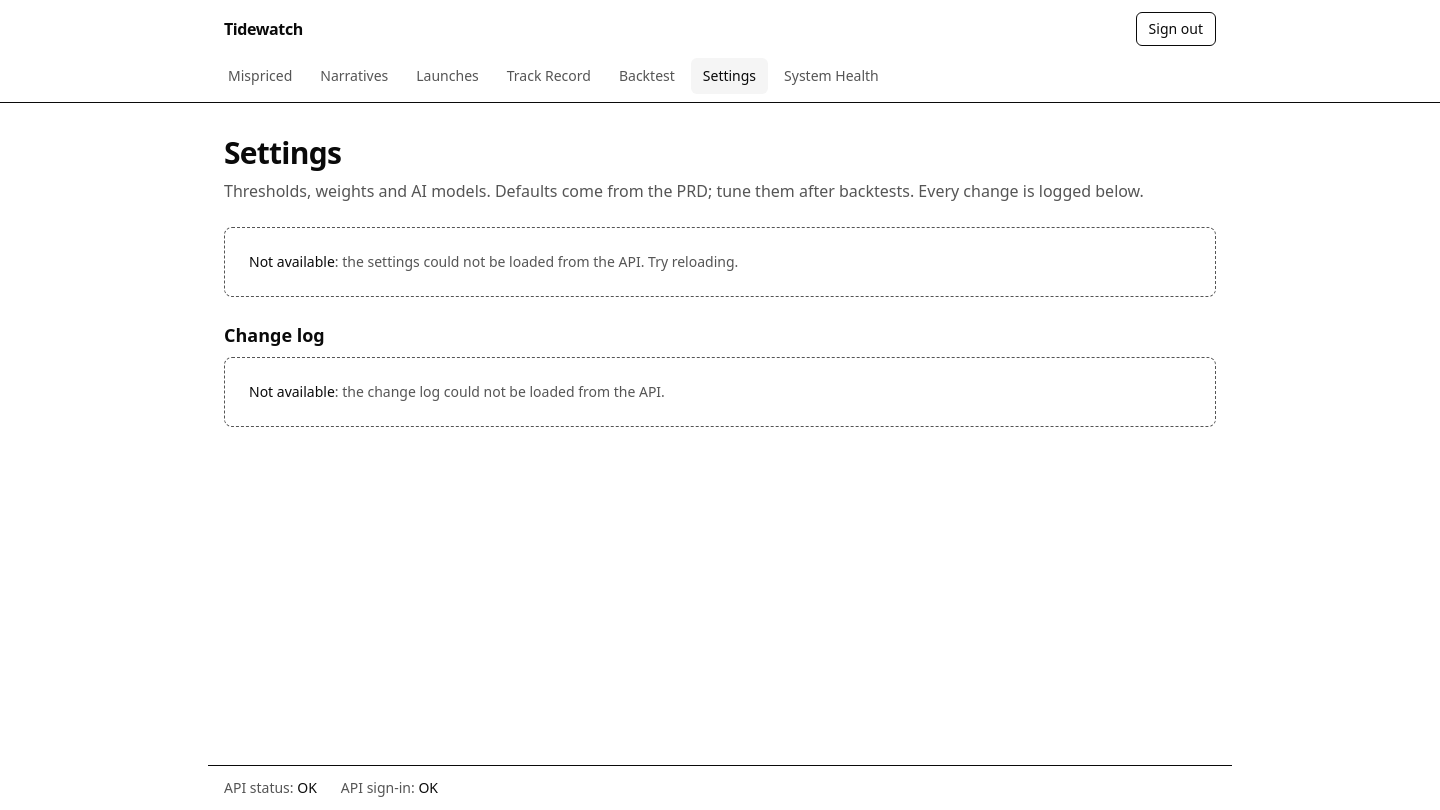
Test: PER-11 dashboard shell › AC2 + AC3: "Mispriced" opens at /mispriced with its title (and "coming in" until built)
Click the link "Mispriced" at (260,76), box [228,66,292,85]
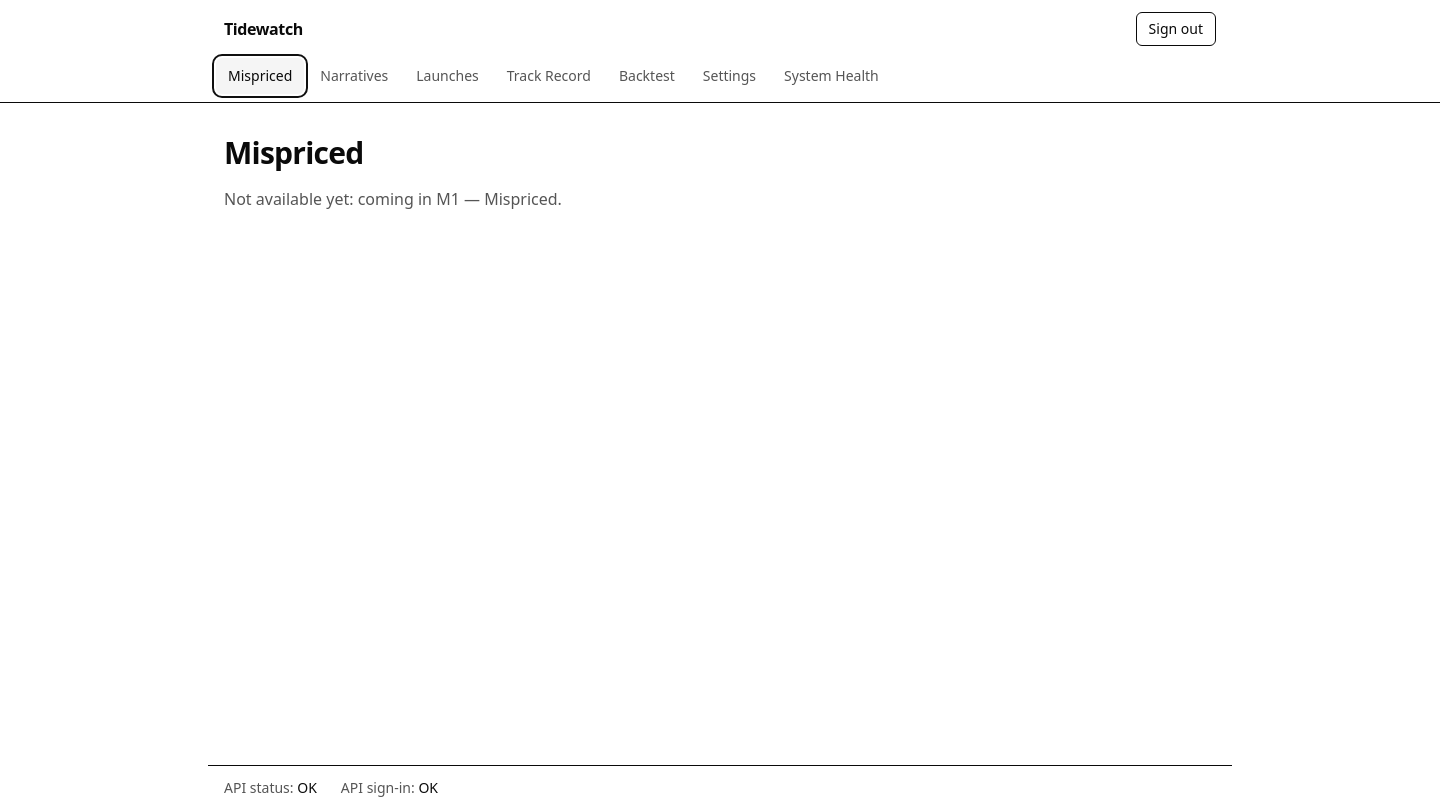
Expected: the heading "Mispriced" is shown, [224,132,364,173]
